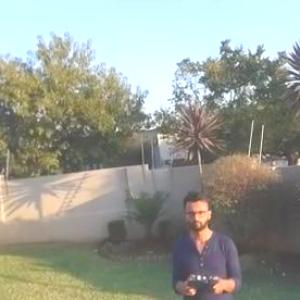follow: (170, 187, 246, 299)
